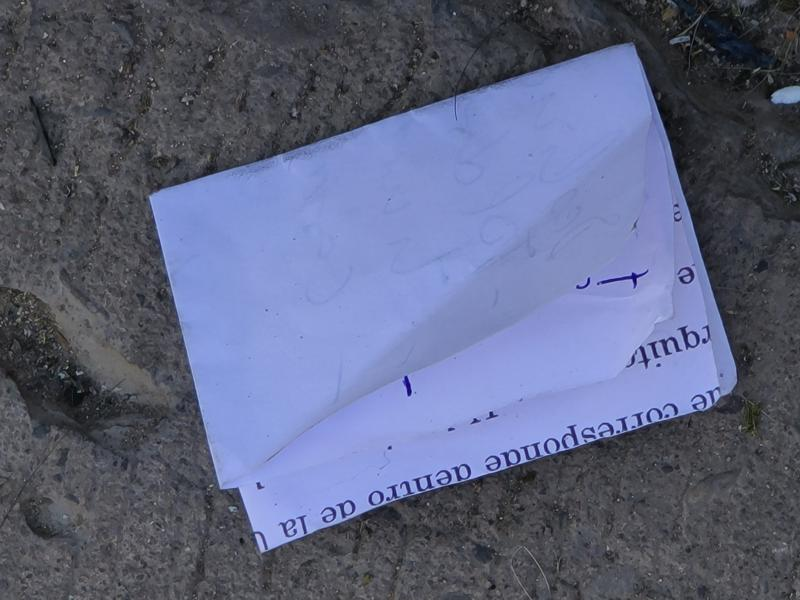papel: (149, 42, 738, 556)
